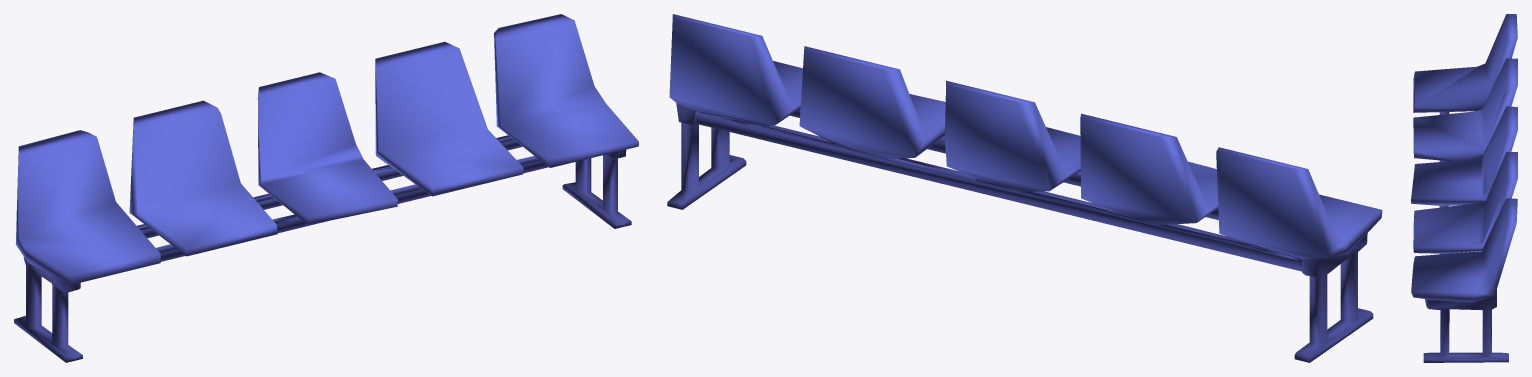
File: model.progressive.glb
3 views of the same model, side by side, from view 1: azimuth 30°, elevation 25°; view 2: azimuth 150°, elevation 25°; view 3: azimuth 270°, elevation 25° (orthographic). The views are drawn at different scales.
Parts seen in each view (by area): view 1: StadiumSeat3; view 2: StadiumSeat3; view 3: StadiumSeat3.
Part boxes in pixels (left/top/right/bottom): StadiumSeat3: left=14, top=14, right=638, bottom=362; StadiumSeat3: left=667, top=14, right=1382, bottom=362; StadiumSeat3: left=1411, top=14, right=1517, bottom=362.
Size of the model in its own units: 1.89 by 0.5312 by 0.3789.
1 material, 1 textured.
